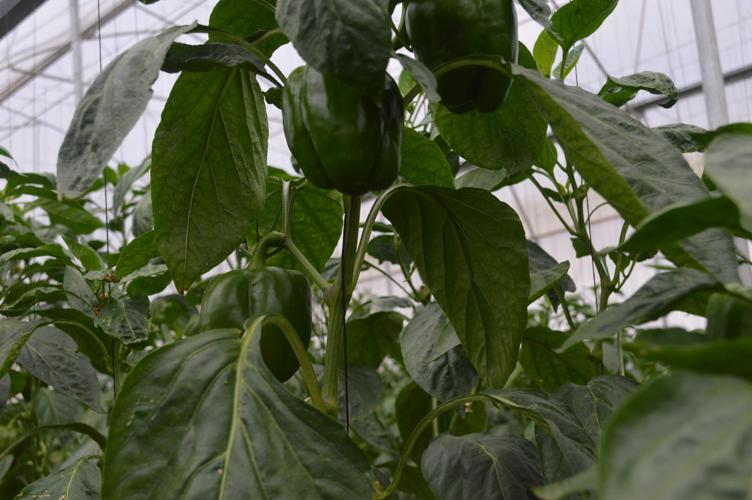BellPepper: (269, 57, 406, 196), (187, 267, 318, 394), (400, 1, 528, 120)
